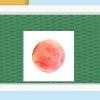raw: (30, 38, 66, 73)
